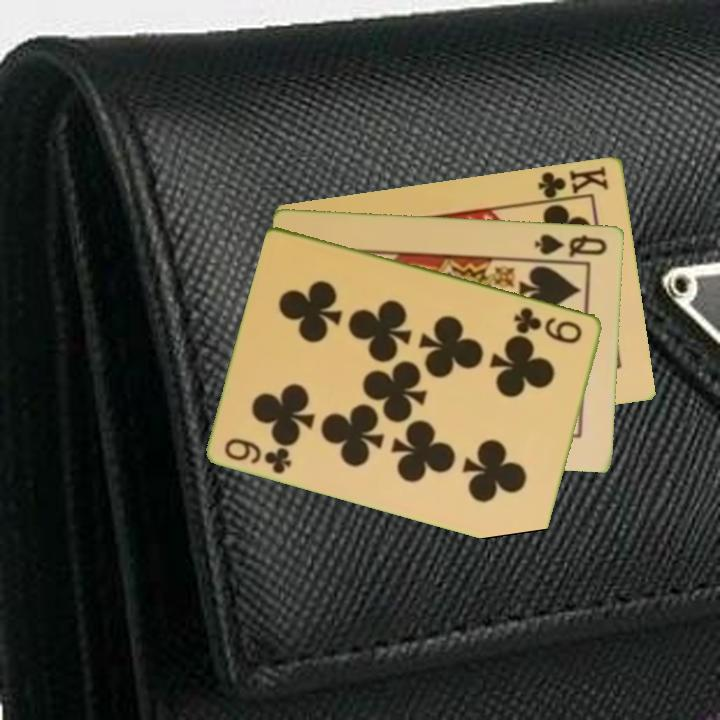9c: (510, 303, 586, 347), (221, 434, 296, 477)
Kc: (533, 162, 611, 204)
Qs: (531, 230, 611, 260)
